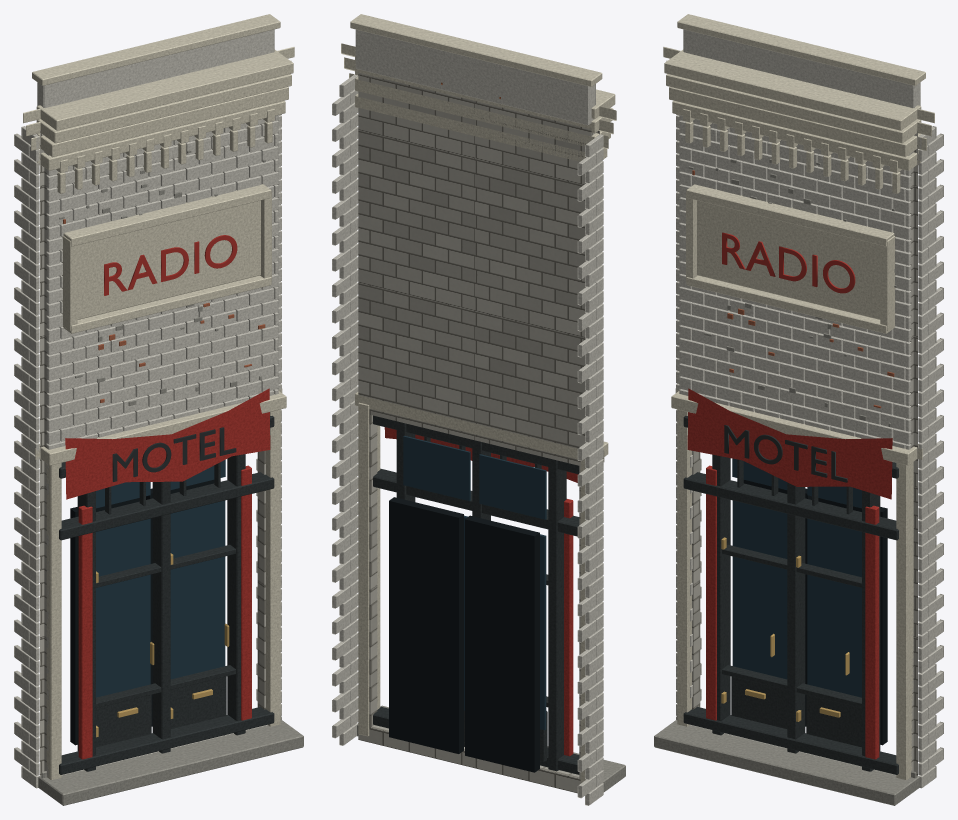
File: BUSS4_lod0.glb
3 renders of one model, left to right at view 1: azimuth 30°, elevation 25°; view 2: azimuth 150°, elevation 25°; view 3: azimuth 330°, elevation 25°, orthographic.
Visible parts, largest first — view 1: BUSS4_FRONT_LOD0; view 2: BUSS4_FRONT_LOD0; view 3: BUSS4_FRONT_LOD0.
Part boxes in pixels (box(x1,y1,x2,y2)): BUSS4_FRONT_LOD0: box(14, 14, 303, 805); BUSS4_FRONT_LOD0: box(332, 14, 625, 805); BUSS4_FRONT_LOD0: box(654, 14, 943, 805).
Bounding box in the file's own units: 3.78 × 9.44 × 1.12.
Materials: 14 (11 with a texture image).
